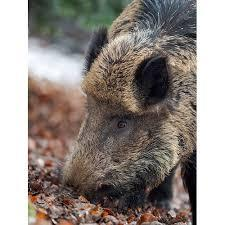wildboar: (60, 0, 197, 225)
